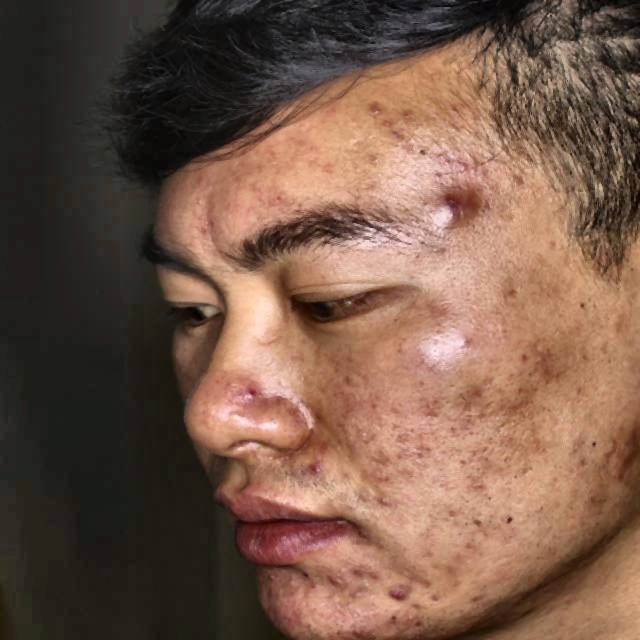pustule: (229, 384, 270, 407), (362, 97, 399, 122), (350, 556, 377, 581), (327, 570, 350, 596), (386, 585, 408, 610), (309, 461, 319, 485)
